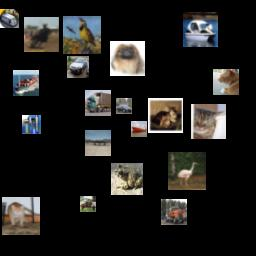airplane: (85, 130, 111, 156)
automobile: (67, 56, 89, 78), (116, 98, 132, 114)
bird: (63, 16, 101, 54), (168, 152, 206, 190)
cat: (2, 197, 40, 235), (148, 98, 183, 133), (191, 104, 226, 139), (213, 69, 239, 95)
dog: (110, 41, 145, 76)
frog: (111, 163, 143, 195)
ship: (183, 12, 218, 47), (13, 70, 39, 96), (131, 121, 147, 137)
truck: (85, 90, 111, 116), (161, 199, 187, 225), (22, 115, 41, 134), (0, 9, 19, 28)
